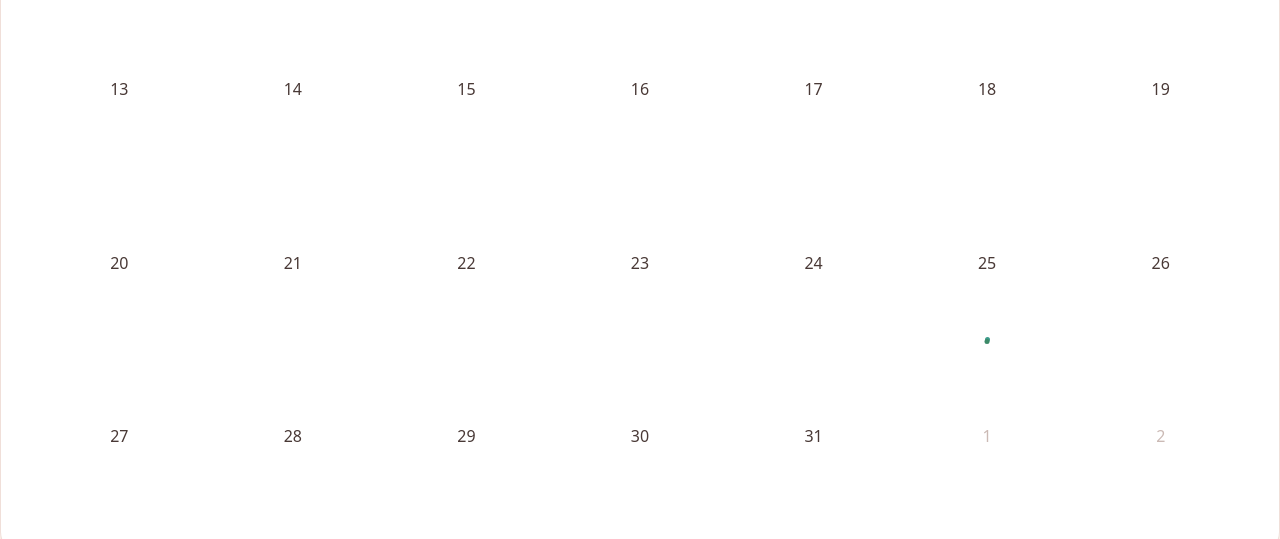
Scenario: clears my availability when every period is deselected and saved
(page scrolled)
Click the button named "7月25日": (987, 264) [903, 179, 1071, 348]
(page scrolled)
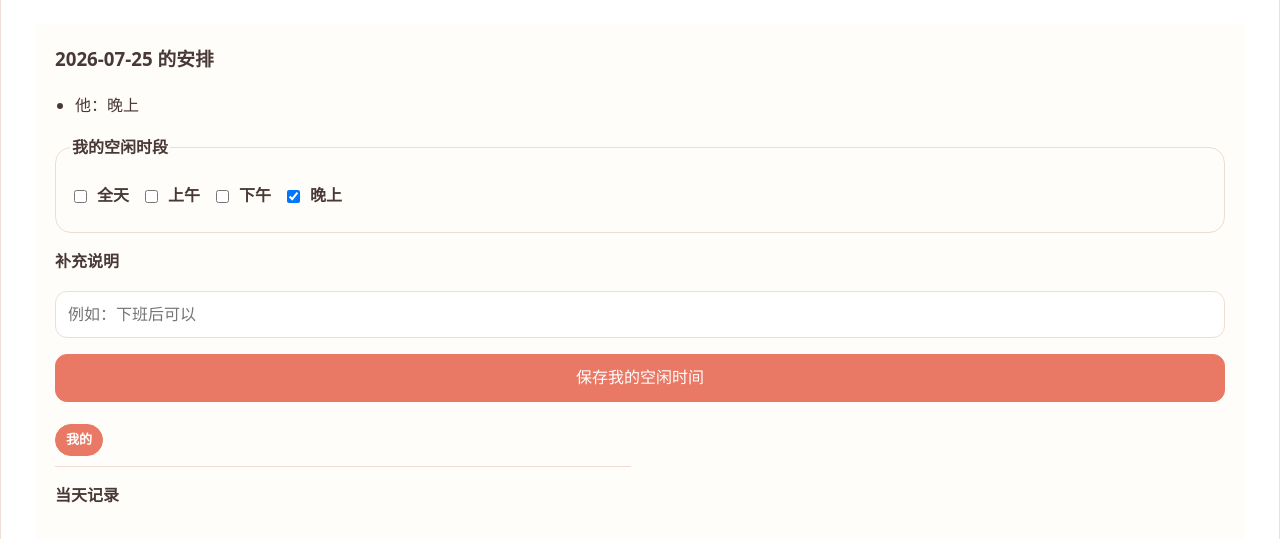
Click the checkbox labelled "晚上": (294, 196) [287, 190, 300, 203]
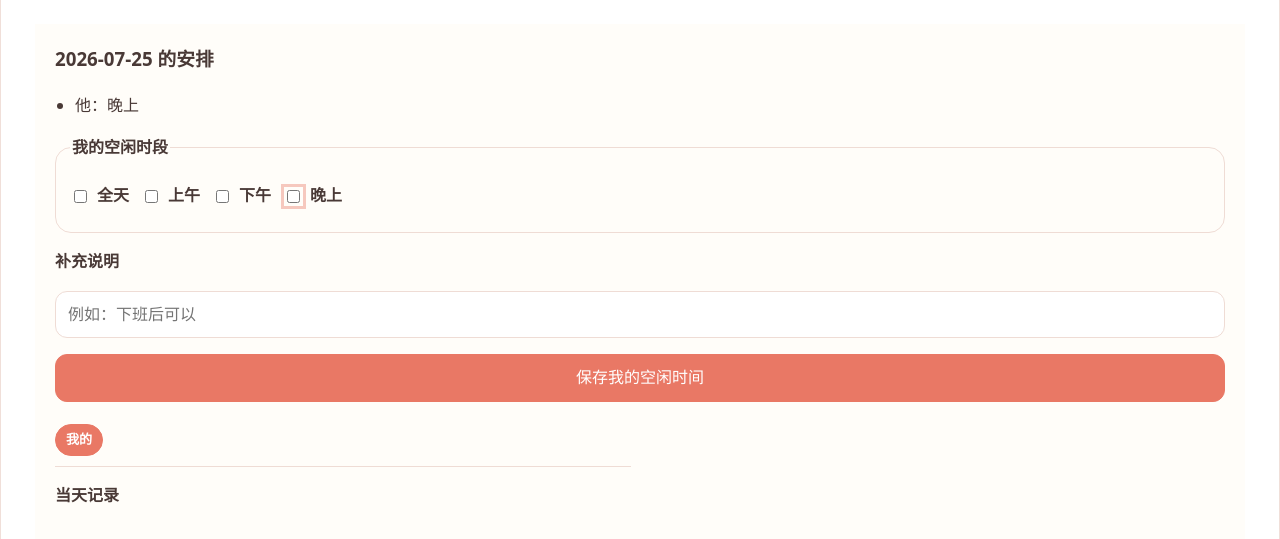
Click the button "保存我的空闲时间": (640, 378) [55, 354, 1225, 402]
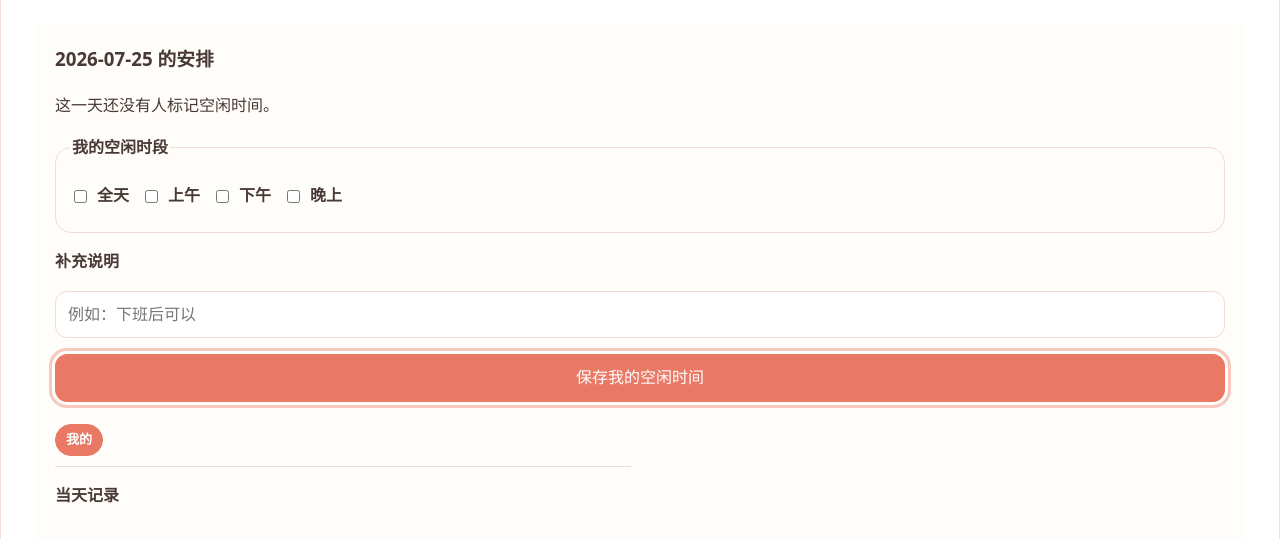
Result: the text "这一天还没有人标记空闲时间。" is shown at [55, 94, 279, 116]
